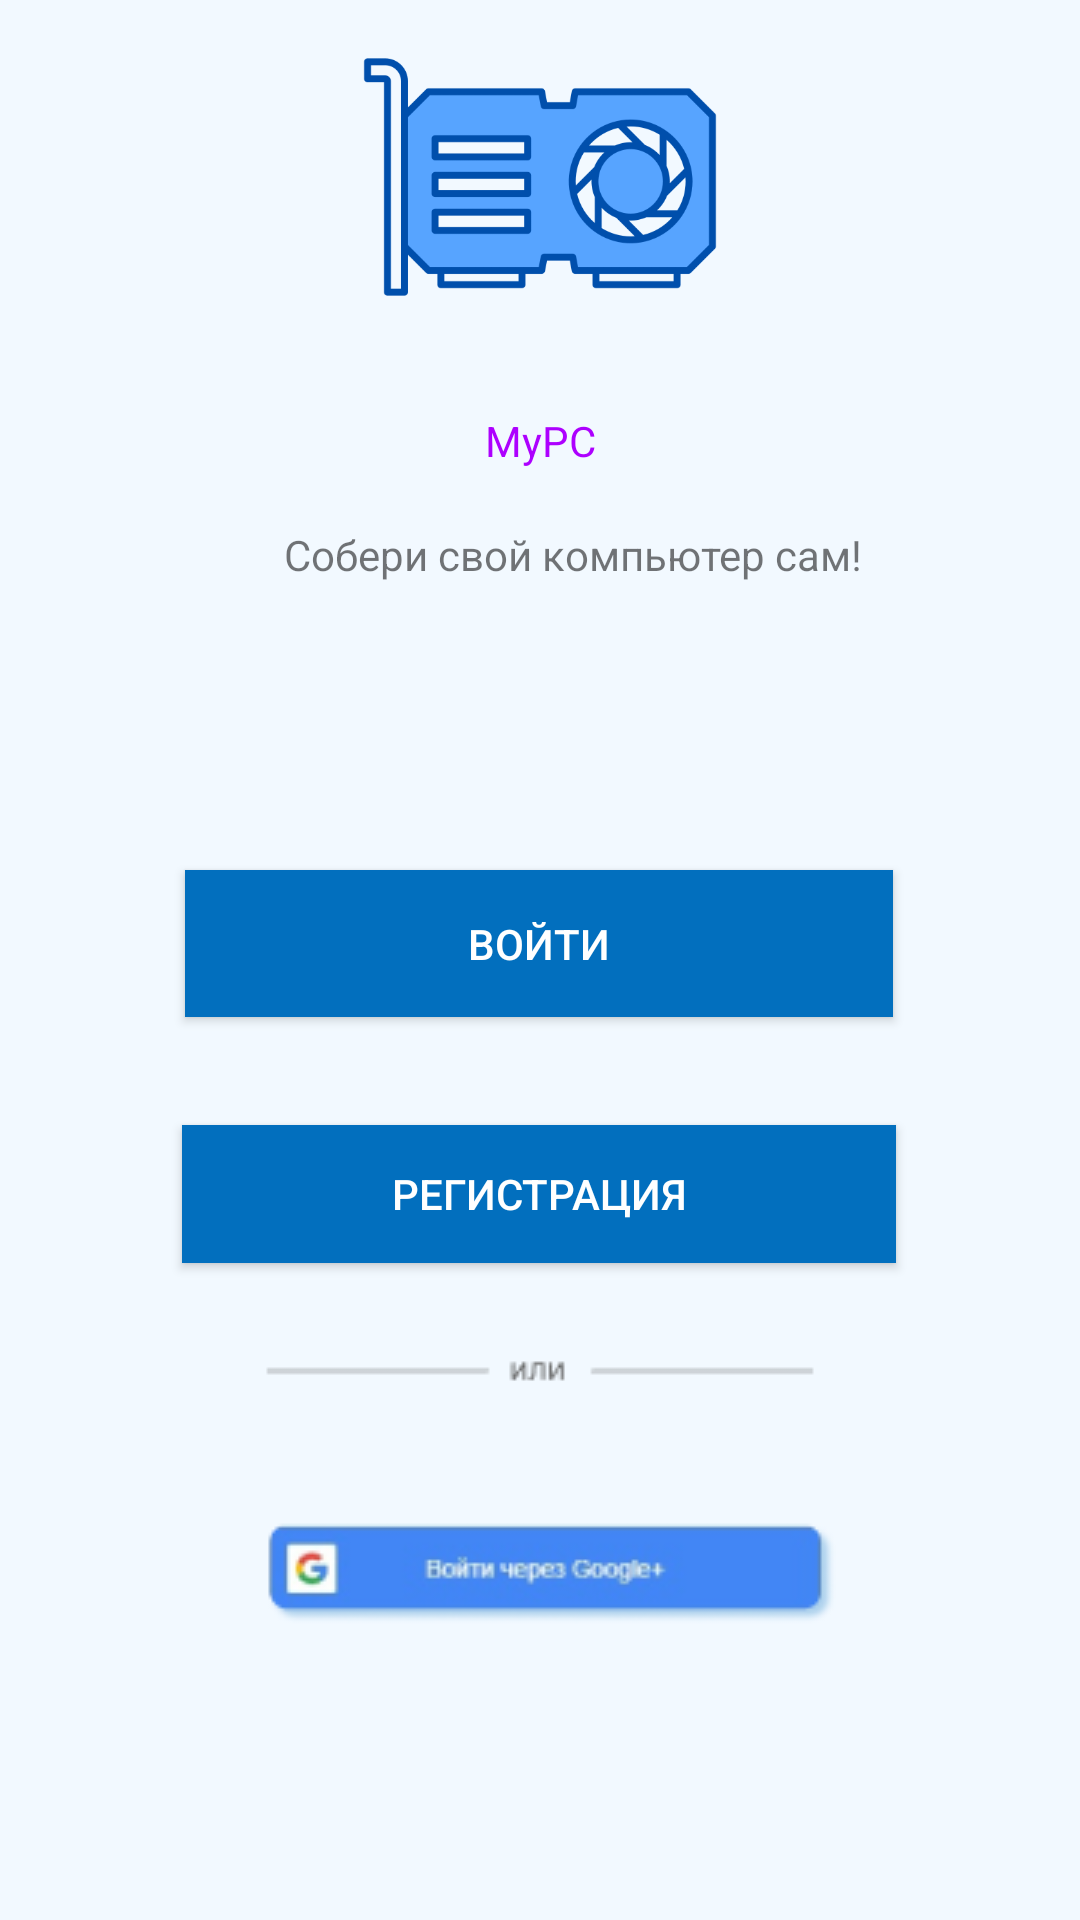

Point at icon controls on the screen. Image size 1080w x 1920h, points as (x=x, y=y).
graphic card: (x=540, y=177)
